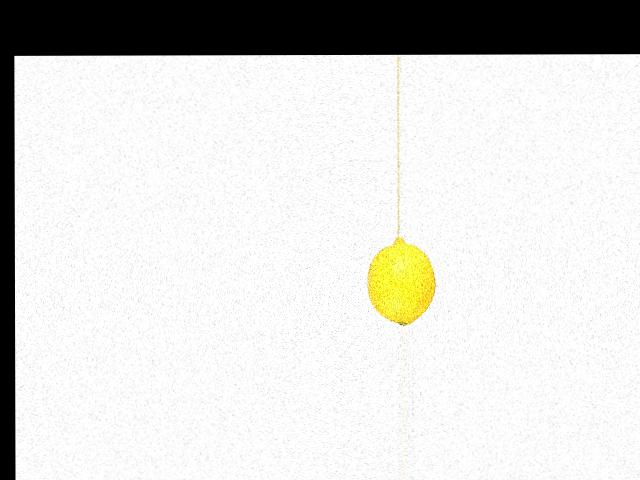lemon: (367, 238, 436, 324)
